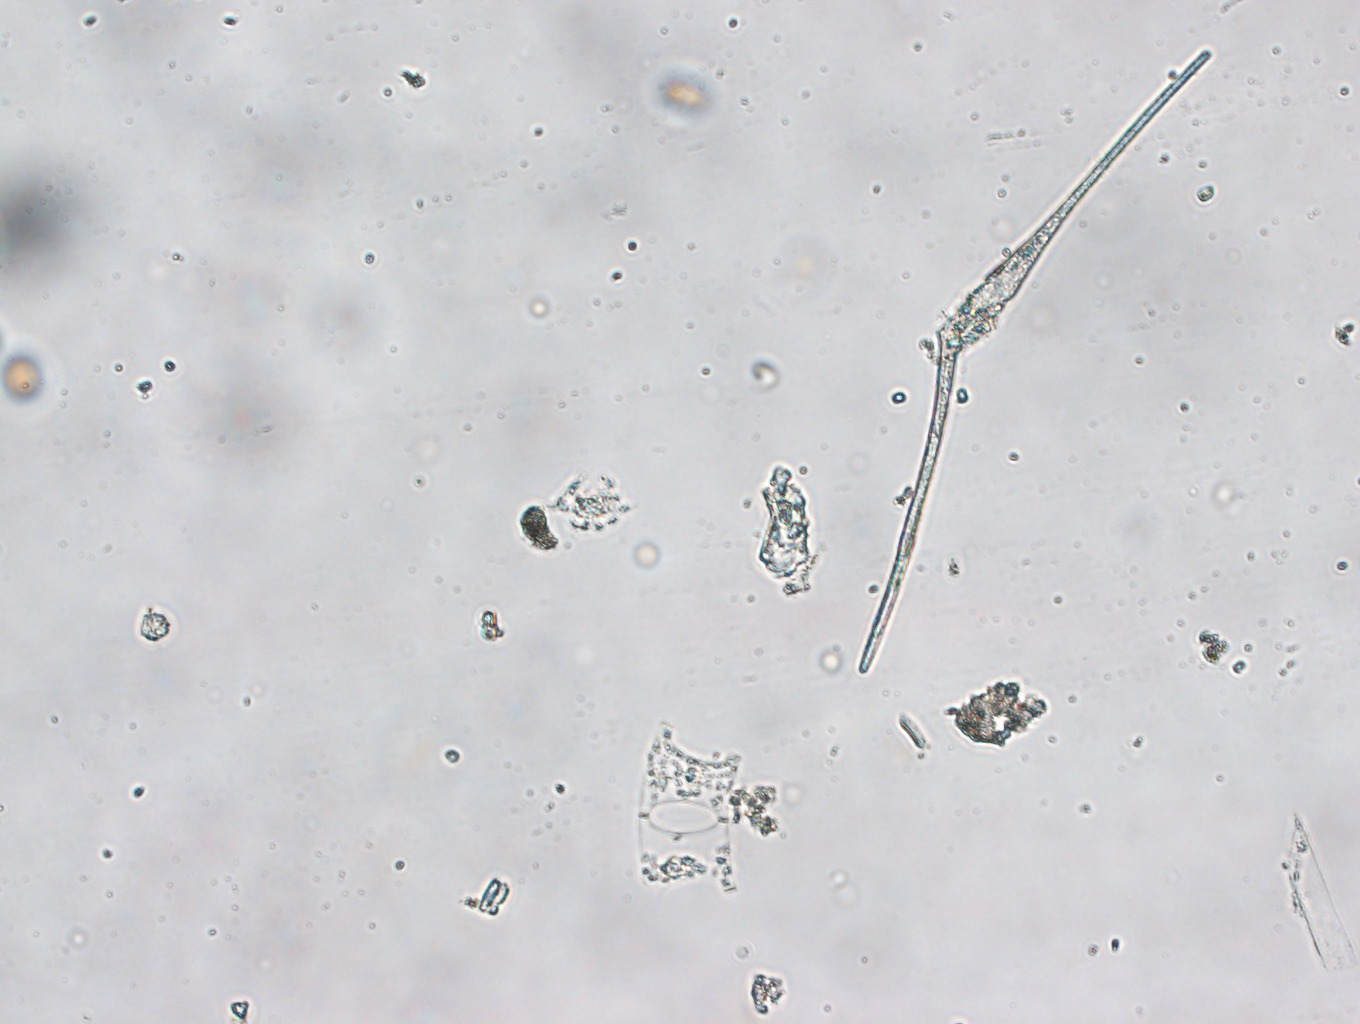ceratium fusus: (856, 47, 1213, 677)
